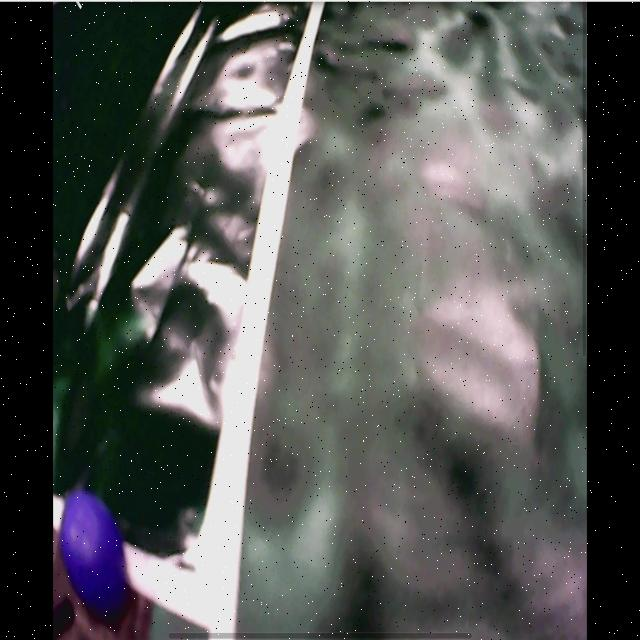ball: (62, 489, 128, 612)
